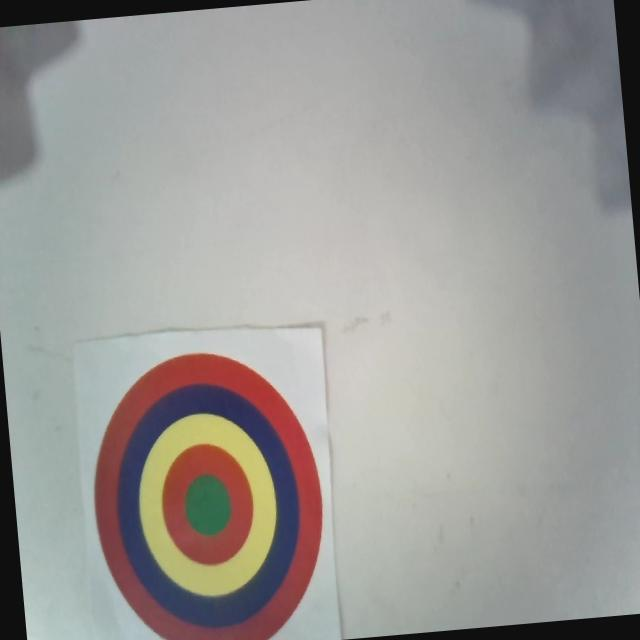cogn: (81, 338, 336, 640)
